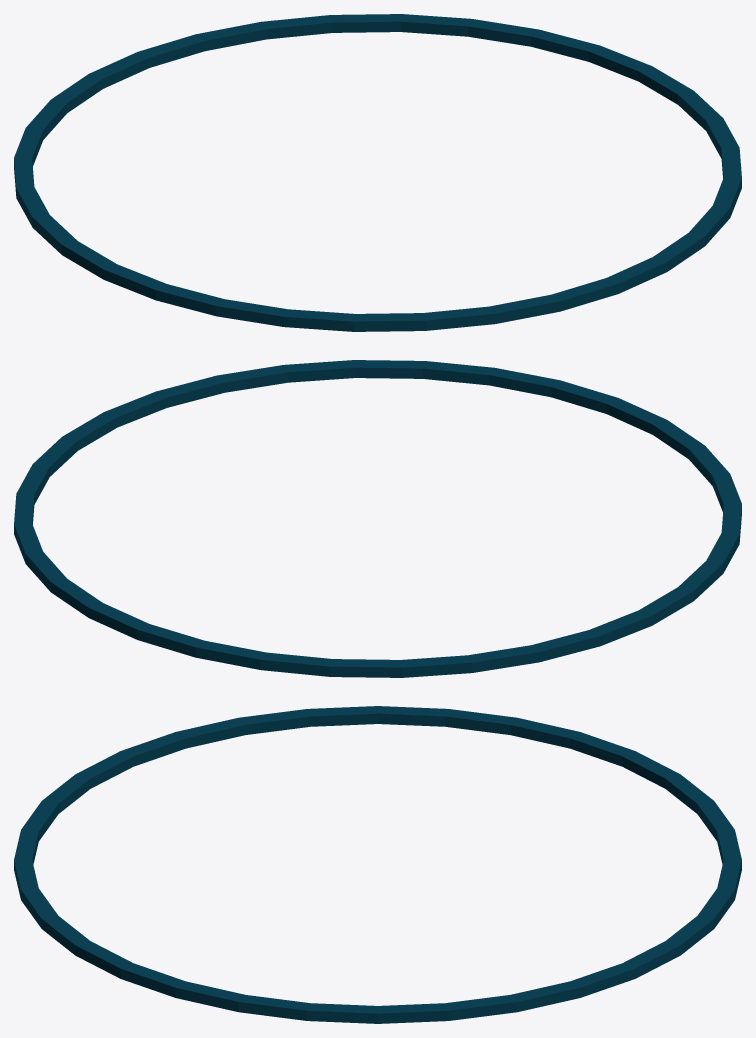
Rendered from Standing-circle.obj.
3 views of the same model, one above another, from view 1: azimuth 30°, elevation 25°; view 2: azimuth 150°, elevation 25°; view 3: azimuth 270°, elevation 25° (orthographic).
Parts seen in each view (by area): view 1: Cylinder-circle_Cylinder; view 2: Cylinder-circle_Cylinder; view 3: Cylinder-circle_Cylinder.
Part boxes in pixels (x1=…): Cylinder-circle_Cylinder: x1=14, y1=14, x2=741, y2=331; Cylinder-circle_Cylinder: x1=14, y1=360, x2=741, y2=677; Cylinder-circle_Cylinder: x1=14, y1=706, x2=741, y2=1023.
Bounding box in the file's own units: 4 × 0.0625 × 4.
